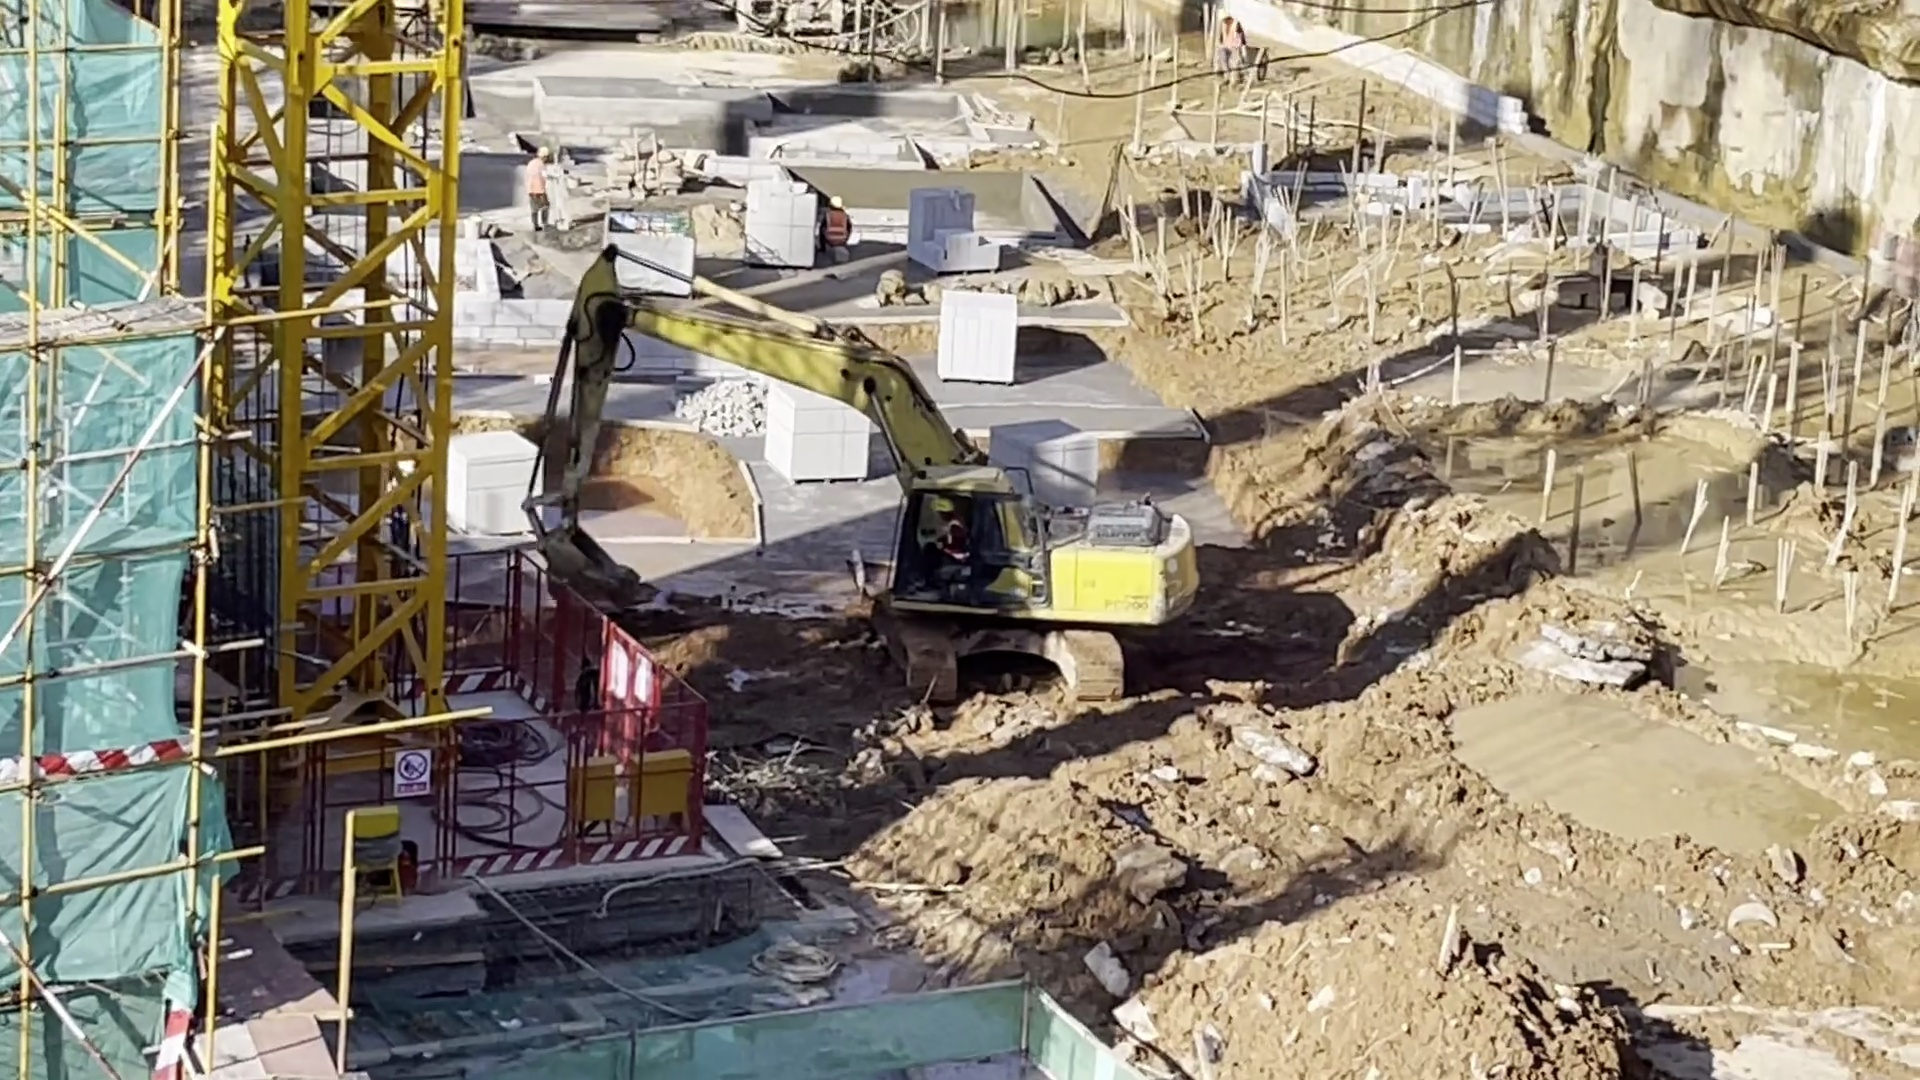brick: (772, 385, 883, 485), (1007, 423, 1104, 505), (463, 445, 544, 539), (936, 296, 1015, 386), (913, 197, 995, 277), (749, 188, 815, 264)
ebox: (570, 761, 619, 832), (643, 758, 689, 815)
helmet: (931, 498, 954, 516), (829, 193, 841, 205), (538, 144, 549, 154)
person: (922, 493, 977, 579), (521, 142, 554, 238), (813, 188, 851, 269)
slogan: (392, 750, 427, 795)
vest: (521, 163, 555, 219), (931, 522, 967, 568), (827, 210, 850, 242)
